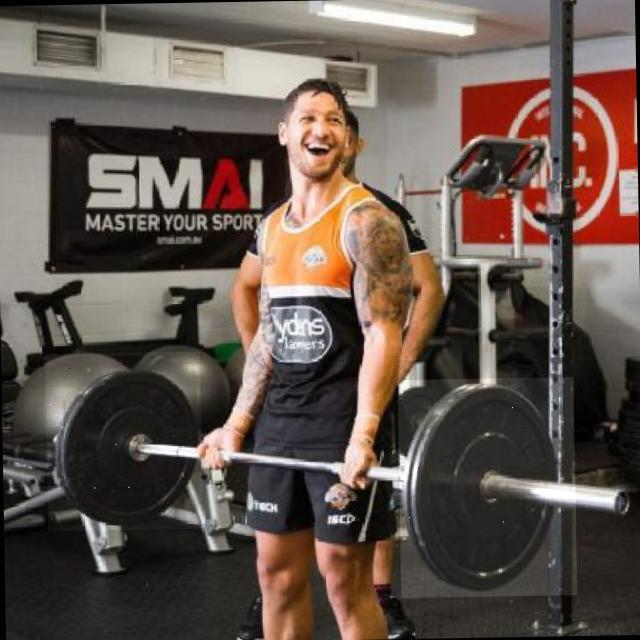barbell: (398, 378, 578, 599), (46, 352, 204, 532)
